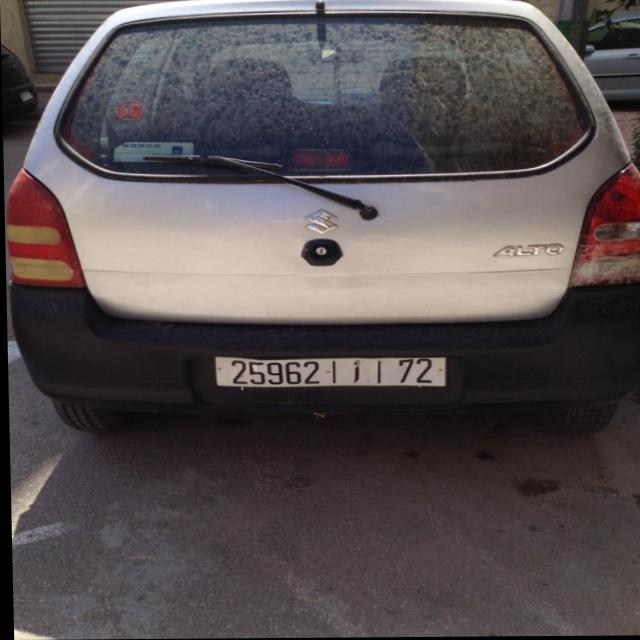License-Plate: (213, 357, 445, 387)
